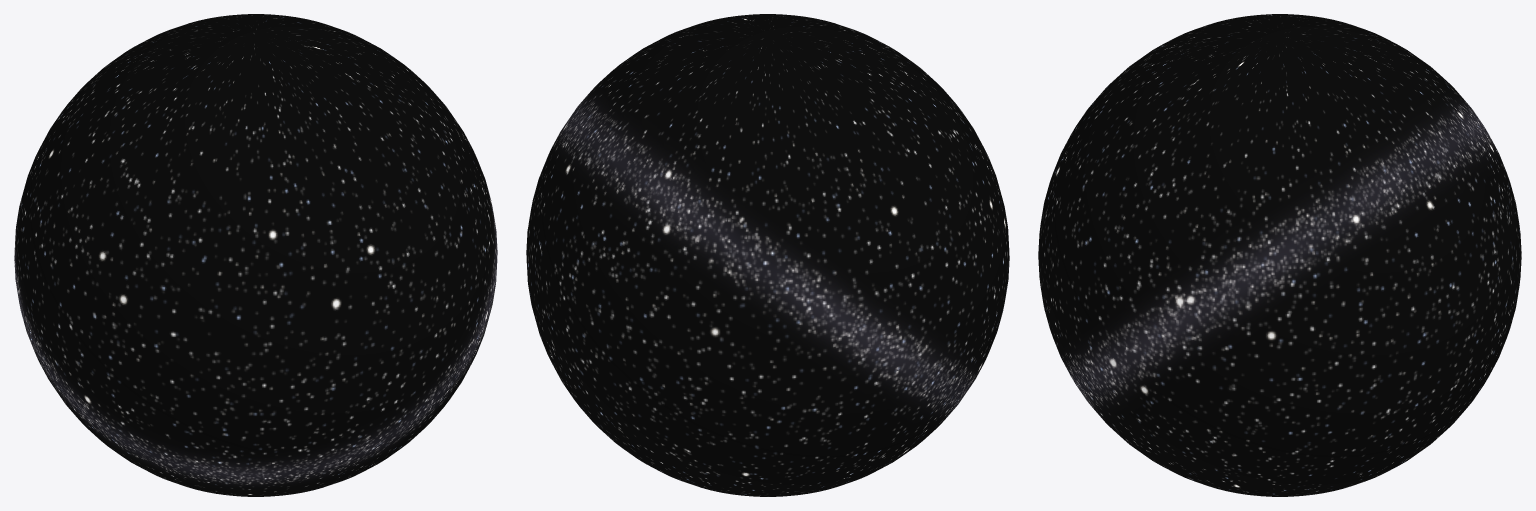
The model's file is one_home_pale_blue_dot.glb.
The picture shows the model from 3 angles, left to right: view 1: azimuth 30°, elevation 25°; view 2: azimuth 150°, elevation 25°; view 3: azimuth 270°, elevation 25°; orthographic projection.
Parts seen in each view (by area): view 1: Starfield; view 2: Starfield; view 3: Starfield.
Boxes of the visible parts, bbox=[...] form: Starfield: bbox=[14, 14, 497, 496]; Starfield: bbox=[526, 14, 1009, 496]; Starfield: bbox=[1038, 14, 1521, 496].
Bounding box in the file's own units: 20 × 20 × 20.
Materials: 7 (4 with a texture image).
